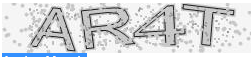4: (133, 4, 186, 48)
A: (29, 6, 77, 53)
R: (78, 6, 135, 50)
T: (182, 2, 238, 50)
